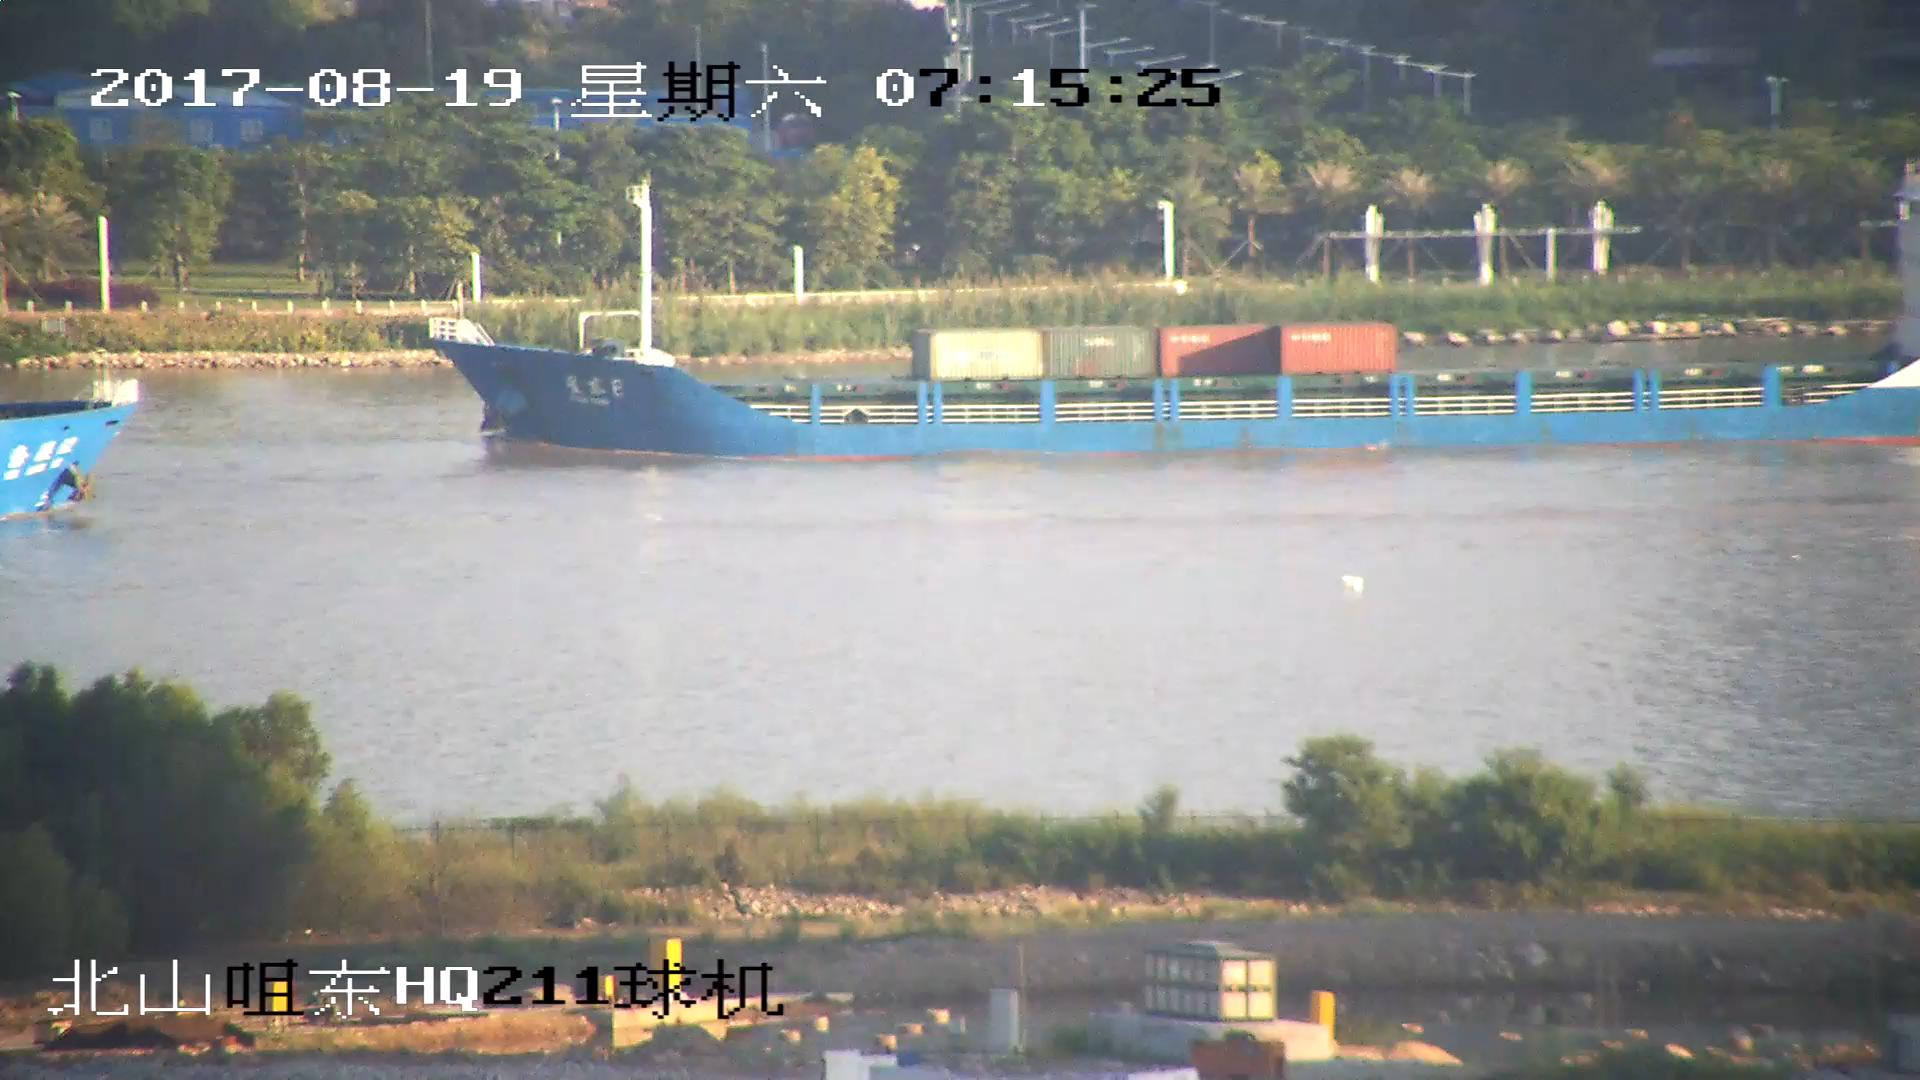general cargo ship: (426, 190, 1920, 460), (1, 383, 137, 518)
